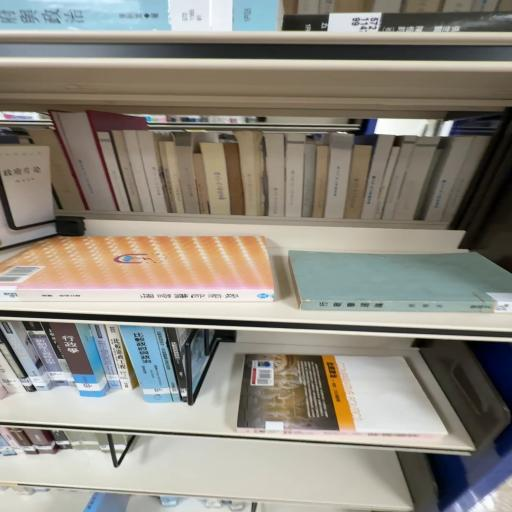flat: (0, 236, 274, 304), (237, 353, 448, 438), (289, 251, 512, 313)
